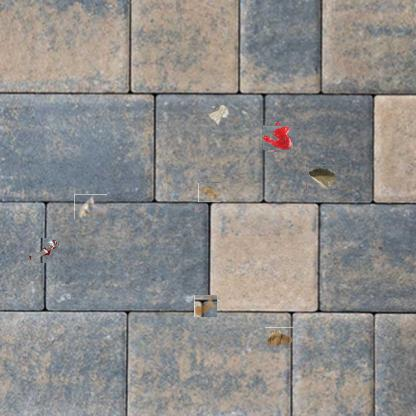dirty: (74, 194, 107, 219), (28, 237, 58, 263), (306, 165, 336, 189), (207, 102, 232, 126), (265, 327, 293, 348), (198, 182, 221, 203)
liquid: (264, 123, 292, 151), (194, 295, 217, 317)
